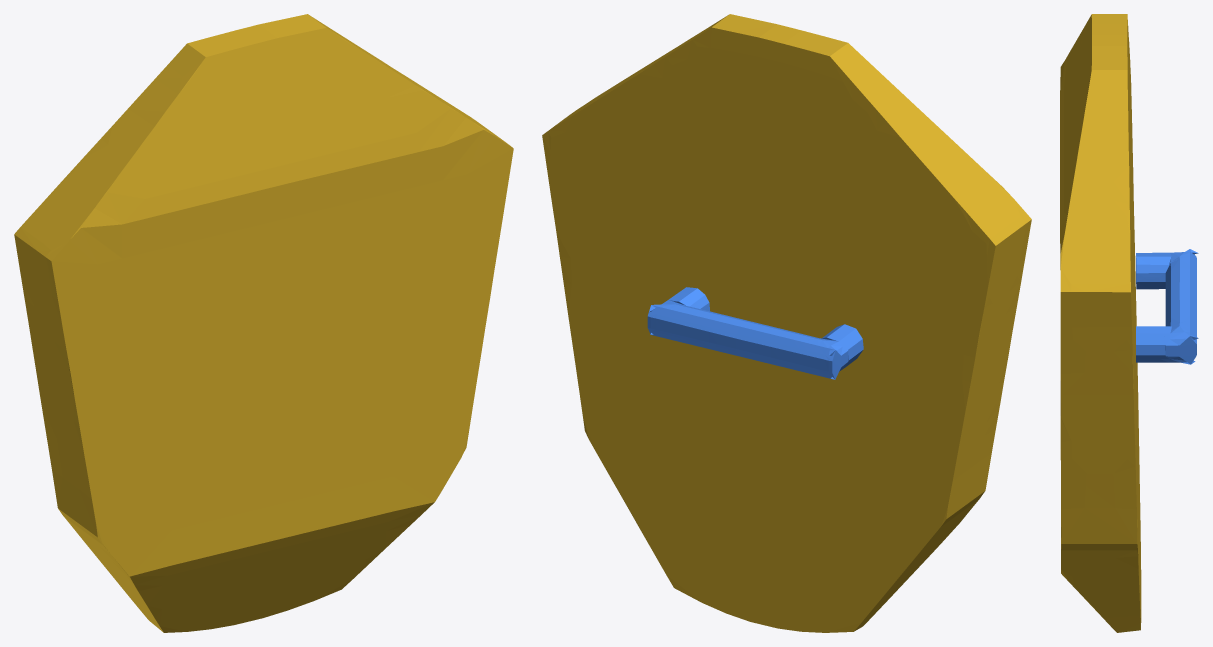
Rendered from shiba_shield_gltf.glb.
The picture shows the model from 3 angles, left to right: view 1: azimuth 30°, elevation 25°; view 2: azimuth 150°, elevation 25°; view 3: azimuth 270°, elevation 25°; orthographic projection. The views are drawn at different scales.
Visible parts, largest first — view 1: Sphere; view 2: Sphere, Mirror; view 3: Sphere, Mirror.
Boxes of the visible parts, left/top/right/bottom form: Sphere: left=14, top=14, right=513, bottom=632; Sphere: left=542, top=14, right=1031, bottom=632; Mirror: left=647, top=287, right=863, bottom=379; Sphere: left=1060, top=14, right=1141, bottom=632; Mirror: left=1136, top=249, right=1198, bottom=364.
Bounding box in the file's own units: 0.5306 × 0.6501 × 0.145.
